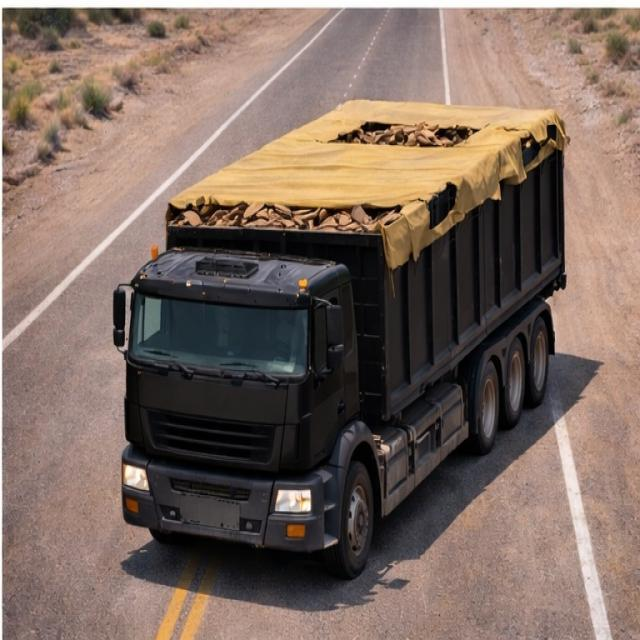Box: (159, 102, 559, 231)
Truck: (114, 100, 572, 542)
